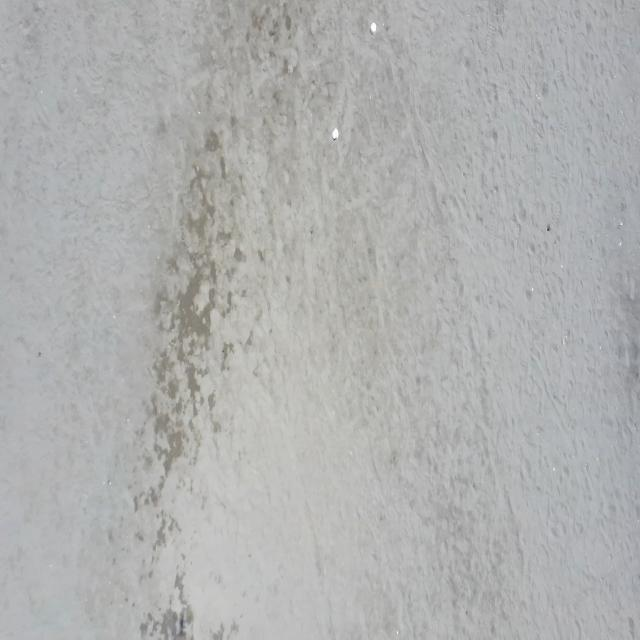take-away-containers: (332, 127, 339, 140), (371, 22, 376, 35)
